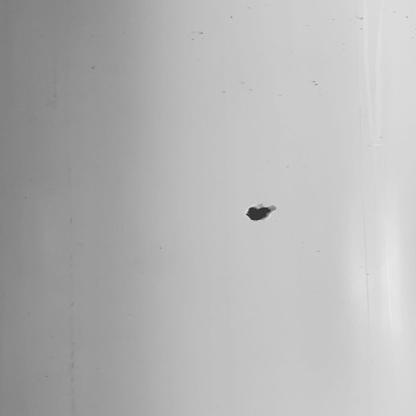kongdong: (232, 197, 292, 232)
